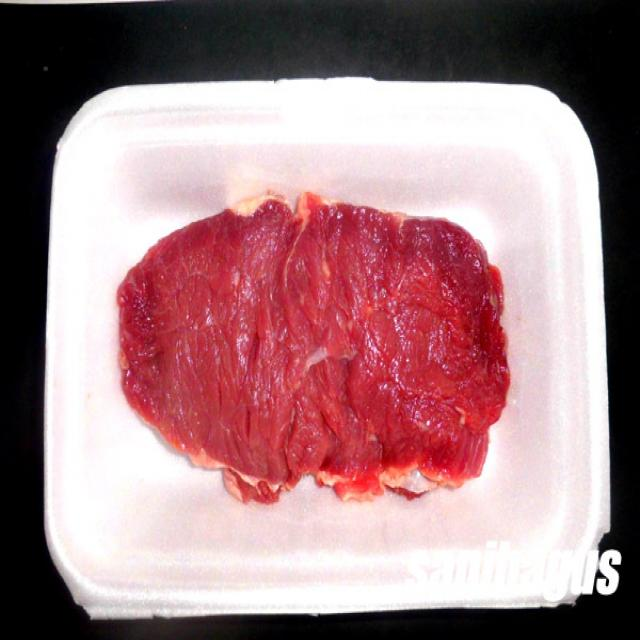beef: (106, 208, 526, 499)
